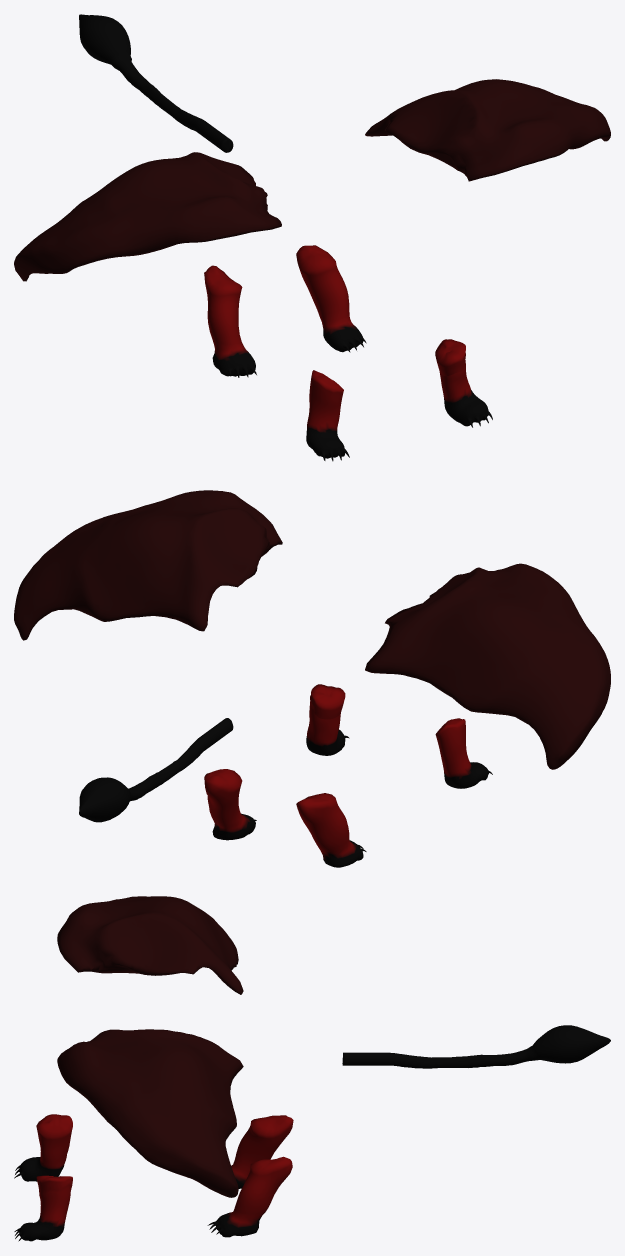
Rendered from manticore_body_parts.glb.
3 renders of one model, top to bottom at view 1: azimuth 30°, elevation 25°; view 2: azimuth 150°, elevation 25°; view 3: azimuth 270°, elevation 25°, orthographic. The views are drawn at different scales.
Parts seen in each view (by area): view 1: WingR, WingL, Tail, LegBL, LegBR, LegFL, LegFR; view 2: WingR, WingL, Tail, LegBR, LegBL, LegFL, LegFR; view 3: WingL, WingR, Tail, LegBL, LegFR, LegFL, LegBR.
Part boxes in pixels (x1,y1,x2,y2): WingR: [14, 152, 281, 281]; WingL: [365, 79, 610, 181]; Tail: [79, 14, 233, 152]; LegBL: [296, 245, 366, 352]; LegBR: [204, 265, 256, 377]; LegFL: [435, 339, 492, 427]; LegFR: [306, 370, 349, 461]; WingR: [365, 563, 610, 769]; WingL: [14, 490, 282, 640]; Tail: [79, 718, 233, 822]; LegBR: [296, 793, 366, 867]; LegBL: [204, 769, 256, 840]; LegFL: [306, 684, 349, 755]; LegFR: [435, 718, 492, 788]; WingL: [57, 1029, 243, 1197]; WingR: [57, 896, 243, 994]; Tail: [342, 1025, 610, 1068]; LegBL: [207, 1156, 292, 1237]; LegFR: [14, 1114, 72, 1181]; LegFL: [14, 1175, 72, 1241]; LegBR: [231, 1115, 293, 1188].
Bounding box in the file's own units: 4.07 × 1.82 × 4.13.
